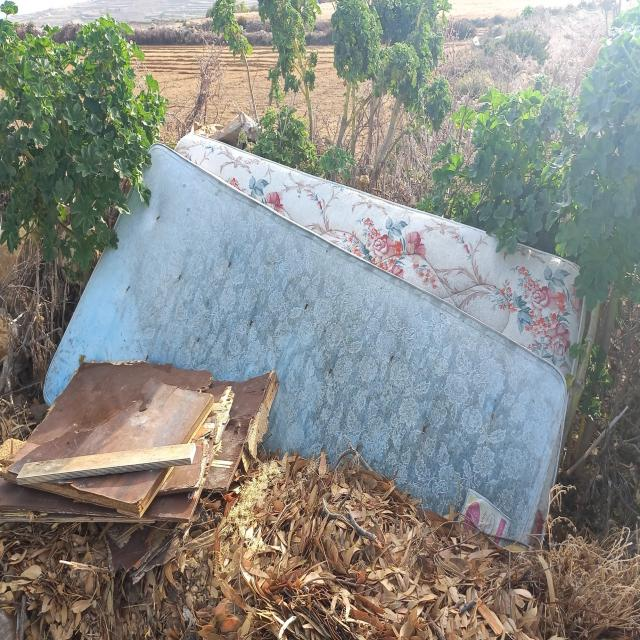Other litter: (0, 116, 598, 553)
